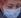with_mask: (2, 1, 21, 18)
